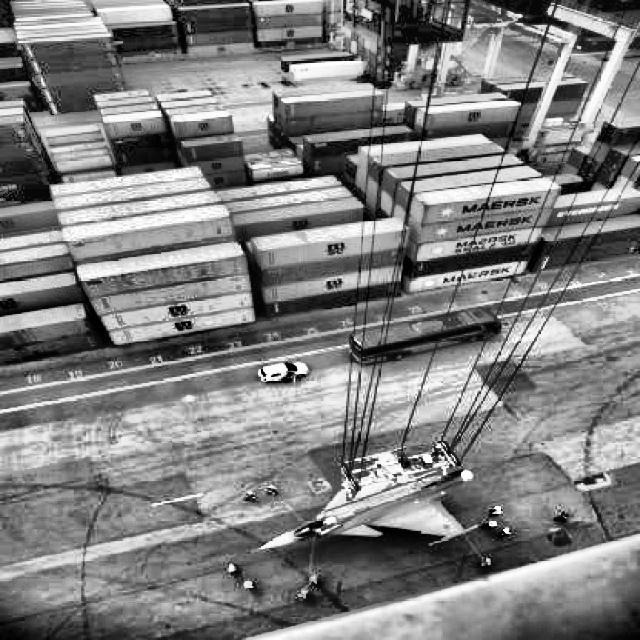JAS39: (246, 446, 480, 554)
